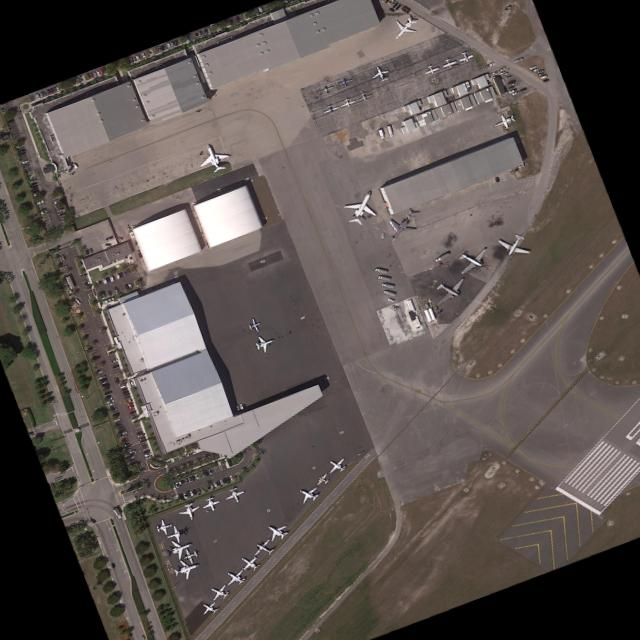large-vehicle: (434, 252, 449, 262), (111, 507, 122, 519), (381, 290, 395, 296), (376, 275, 390, 281), (373, 268, 387, 274), (380, 283, 393, 288)
plane: (337, 188, 384, 226), (376, 210, 423, 246), (450, 241, 493, 279), (427, 271, 469, 309), (192, 139, 232, 176), (492, 229, 536, 261), (385, 13, 421, 44), (163, 534, 194, 563), (170, 555, 202, 583), (260, 518, 291, 544), (247, 535, 277, 561), (219, 564, 249, 590), (292, 481, 322, 506), (204, 580, 233, 604), (322, 454, 351, 477), (234, 551, 262, 574), (251, 331, 277, 355), (489, 110, 516, 133), (176, 500, 202, 523), (163, 523, 188, 546), (221, 484, 247, 506), (368, 63, 391, 84), (196, 598, 220, 618), (199, 494, 222, 514), (179, 545, 199, 566), (154, 516, 173, 536), (245, 316, 262, 333), (456, 49, 473, 65), (314, 472, 331, 487), (338, 95, 355, 109), (439, 56, 456, 69), (321, 102, 338, 115), (422, 63, 439, 76), (354, 90, 372, 102), (317, 84, 334, 96), (336, 76, 352, 88)
small-vehicle: (513, 56, 522, 63), (389, 304, 399, 310), (505, 79, 515, 85), (356, 449, 364, 456), (507, 87, 516, 93), (484, 61, 493, 67), (144, 482, 151, 489), (518, 86, 526, 92), (539, 74, 547, 80), (529, 67, 537, 73), (177, 493, 183, 501), (184, 490, 190, 498), (142, 451, 150, 457), (104, 235, 112, 241), (112, 286, 118, 294), (107, 404, 115, 410), (103, 389, 111, 395), (112, 376, 118, 384), (111, 363, 119, 369), (386, 297, 395, 302), (510, 90, 519, 95), (128, 460, 137, 465), (493, 176, 499, 183), (504, 74, 511, 80), (130, 55, 136, 62), (394, 3, 400, 10), (71, 162, 77, 169), (199, 471, 205, 478), (207, 482, 213, 489), (123, 394, 130, 400), (83, 248, 89, 255), (124, 267, 130, 274), (56, 206, 63, 212), (506, 85, 514, 90), (528, 65, 536, 70), (20, 159, 28, 164), (17, 148, 25, 153), (14, 143, 22, 148), (181, 491, 186, 499), (195, 487, 200, 495), (125, 401, 133, 406), (134, 430, 142, 435), (136, 433, 144, 438), (108, 274, 113, 282), (79, 272, 87, 277), (35, 199, 43, 204), (31, 189, 39, 194), (202, 28, 208, 34), (183, 36, 189, 42), (69, 79, 75, 85), (57, 84, 63, 90), (94, 70, 100, 76), (97, 68, 103, 74), (134, 54, 140, 60), (256, 6, 262, 12), (391, 2, 397, 8), (389, 0, 395, 6), (189, 475, 195, 481), (204, 484, 210, 490), (176, 480, 182, 486), (120, 270, 126, 276), (99, 292, 105, 298), (536, 68, 543, 73), (172, 39, 177, 46), (68, 171, 75, 176), (34, 92, 39, 99), (38, 90, 43, 97), (101, 66, 106, 73), (387, 7, 394, 12), (28, 178, 35, 183), (188, 490, 193, 497), (191, 489, 196, 496), (183, 477, 188, 484), (225, 476, 230, 483), (228, 474, 233, 481), (126, 455, 133, 460), (123, 447, 130, 452), (126, 404, 133, 409), (6, 118, 13, 123), (121, 389, 128, 394), (173, 481, 178, 488), (128, 409, 135, 414), (129, 412, 136, 417), (138, 438, 145, 443), (140, 443, 147, 448), (141, 446, 148, 451), (142, 449, 149, 454), (30, 183, 37, 188), (101, 277, 106, 284), (80, 278, 87, 283), (123, 283, 128, 290), (53, 199, 60, 204), (58, 211, 65, 216), (40, 209, 47, 214), (119, 431, 126, 436), (114, 420, 121, 425), (112, 415, 119, 420), (111, 412, 118, 417), (106, 401, 113, 406), (101, 382, 108, 387), (95, 369, 102, 374), (110, 358, 117, 363), (32, 192, 40, 196), (196, 30, 201, 36), (227, 18, 232, 24), (194, 108, 200, 113), (234, 404, 239, 410), (238, 403, 243, 409), (45, 88, 50, 94), (48, 87, 53, 93), (51, 86, 56, 92), (54, 85, 59, 91), (88, 72, 93, 78), (168, 41, 173, 47), (91, 71, 96, 77), (127, 57, 132, 63), (140, 52, 145, 58), (165, 42, 170, 48), (199, 486, 204, 492), (193, 473, 198, 479), (203, 470, 208, 476), (207, 469, 212, 475), (212, 481, 217, 487), (215, 480, 220, 486), (218, 479, 223, 485), (221, 477, 226, 483), (110, 562, 115, 568), (123, 392, 129, 397), (138, 436, 144, 441), (117, 271, 122, 277), (114, 273, 119, 279), (104, 276, 109, 282), (126, 282, 131, 288), (118, 428, 124, 433), (116, 425, 122, 430), (115, 423, 121, 428), (113, 417, 119, 422), (109, 407, 115, 412), (106, 290, 111, 296), (105, 396, 111, 401), (98, 374, 104, 379), (541, 78, 548, 82), (536, 72, 543, 76), (156, 45, 160, 52), (159, 44, 163, 51), (386, 0, 393, 4), (127, 407, 134, 411), (144, 455, 151, 459), (128, 449, 135, 453), (122, 442, 129, 446), (81, 281, 88, 285), (103, 242, 110, 246), (31, 186, 38, 190), (106, 399, 113, 403), (231, 474, 236, 479), (234, 16, 238, 22), (30, 181, 36, 185), (127, 458, 133, 462), (187, 476, 191, 482), (140, 634, 144, 640), (88, 247, 92, 253), (39, 207, 45, 211), (121, 439, 127, 443), (120, 437, 126, 441), (119, 434, 125, 438), (101, 380, 107, 384), (380, 233, 384, 238), (193, 32, 197, 37), (95, 280, 99, 285), (384, 0, 388, 3), (283, 0, 288, 2), (380, 0, 384, 2)
